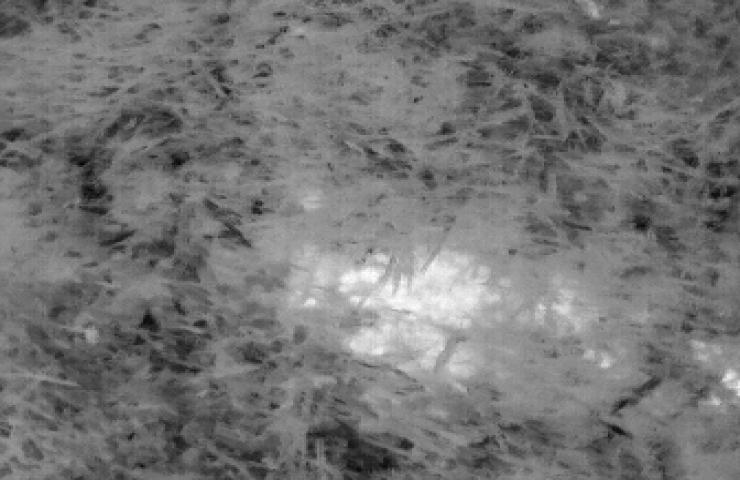landmines: (333, 238, 513, 386)
